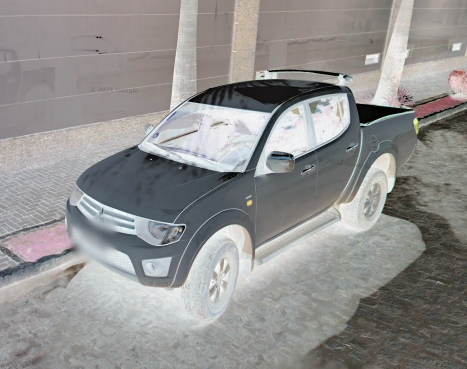car: (63, 66, 423, 325)
